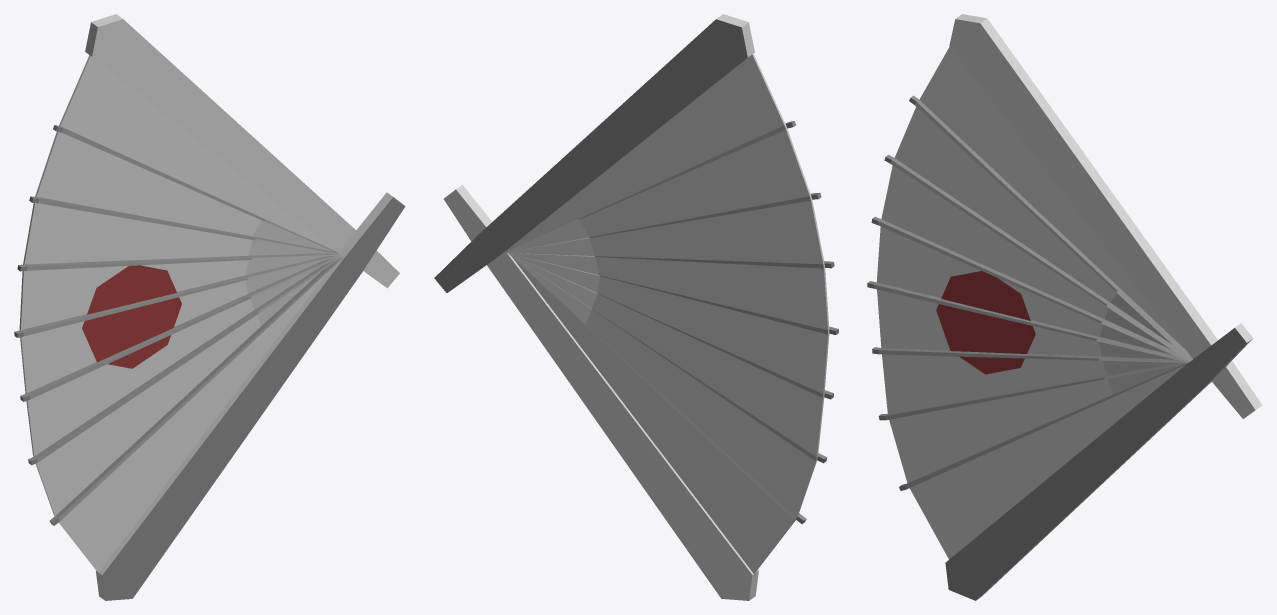
File: Fan.fbx
3 views of the same model, side by side, from view 1: azimuth 30°, elevation 25°; view 2: azimuth 150°, elevation 25°; view 3: azimuth 330°, elevation 25° (orthographic). The views are drawn at different scales.
Visible parts, largest first — view 1: Gunsen; view 2: Gunsen; view 3: Gunsen.
Part boxes in pixels (x1,y1,x2,y2): Gunsen: [14, 14, 405, 600]; Gunsen: [434, 14, 838, 600]; Gunsen: [867, 14, 1262, 600].
Size of the model in its own units: 28.83 by 41 by 1.82.
